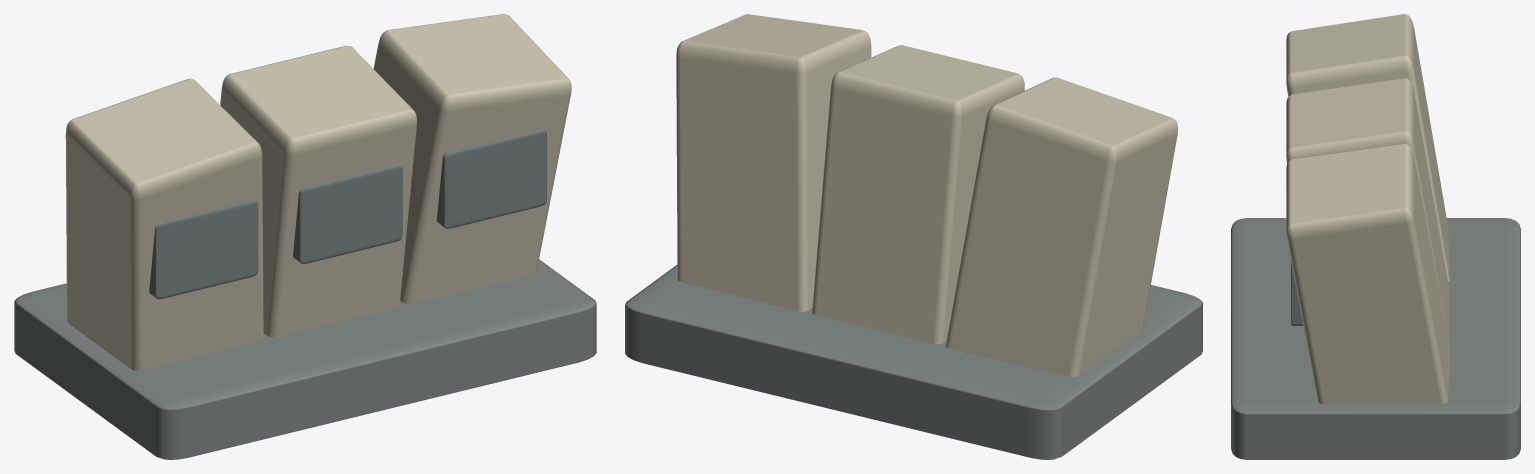
The model's file is warden-machine-baffle-v1.glb.
3 views of the same model, side by side, from view 1: azimuth 30°, elevation 25°; view 2: azimuth 150°, elevation 25°; view 3: azimuth 270°, elevation 25° (orthographic). The views are drawn at different scales.
Visible parts, largest first — view 1: Hull paint / Plate (×3), Steel / Plate, Trim / Plate (×3); view 2: Hull paint / Plate (×3), Steel / Plate; view 3: Hull paint / Plate (×3), Steel / Plate, Trim / Plate.
Part boxes in pixels (left/top/right/bottom): Hull paint / Plate (×3): left=65, top=14, right=571, bottom=370; Steel / Plate: left=14, top=259, right=596, bottom=459; Trim / Plate (×3): left=149, top=130, right=546, bottom=299; Hull paint / Plate (×3): left=676, top=14, right=1177, bottom=376; Steel / Plate: left=625, top=265, right=1202, bottom=459; Hull paint / Plate (×3): left=1286, top=14, right=1449, bottom=404; Steel / Plate: left=1231, top=218, right=1520, bottom=459; Trim / Plate: left=1291, top=261, right=1303, bottom=325.
Size of the model in its own units: 0.3368 by 0.2109 by 0.2076.
